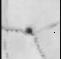good_void: (24, 27, 32, 34)
